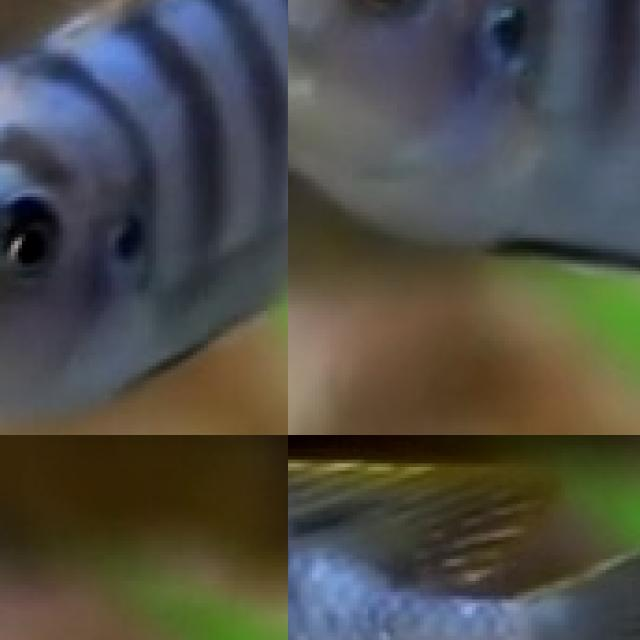fish: (288, 0, 640, 373), (0, 0, 288, 435), (288, 435, 640, 640)
